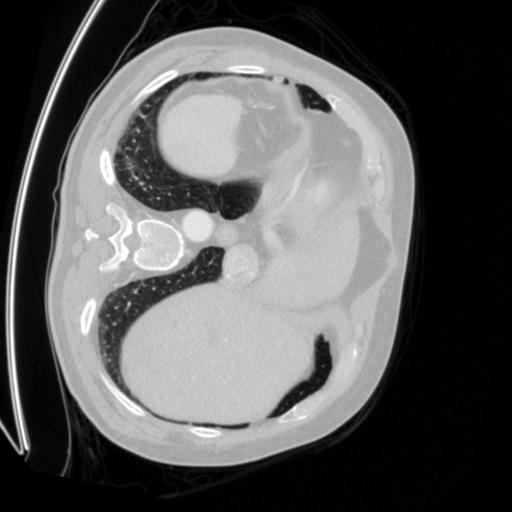nodule: (270, 73, 287, 90)
